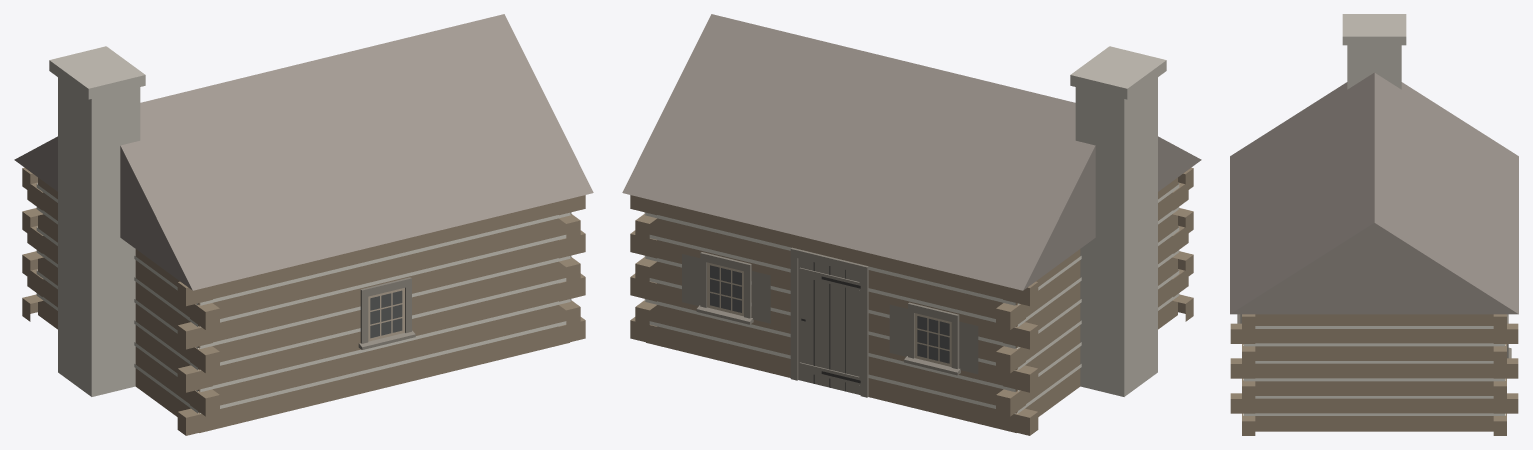
The model's file is mckee_log_house__log_1823.glb.
3 renders of one model, left to right at view 1: azimuth 30°, elevation 25°; view 2: azimuth 150°, elevation 25°; view 3: azimuth 270°, elevation 25°, orthographic. The views are drawn at different scales.
Parts seen in each view (by area): view 1: mckee_log_house__log_1823; view 2: mckee_log_house__log_1823; view 3: mckee_log_house__log_1823.
Part boxes in pixels (x1,y1,x2,y2): mckee_log_house__log_1823: (14,14,593,435); mckee_log_house__log_1823: (622,14,1201,435); mckee_log_house__log_1823: (1230,14,1518,435).
Size of the model in its own units: 7.17 by 4.91 by 5.1.
